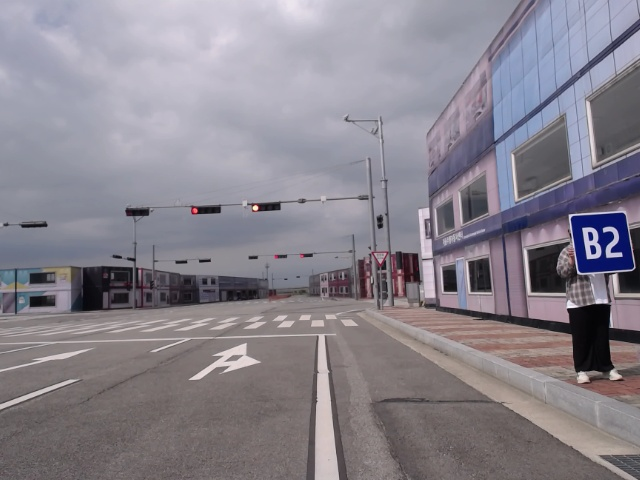delivery_b2: (567, 211, 636, 275)
red_4: (189, 202, 224, 216), (251, 199, 281, 213), (299, 252, 315, 259), (273, 253, 288, 260)
